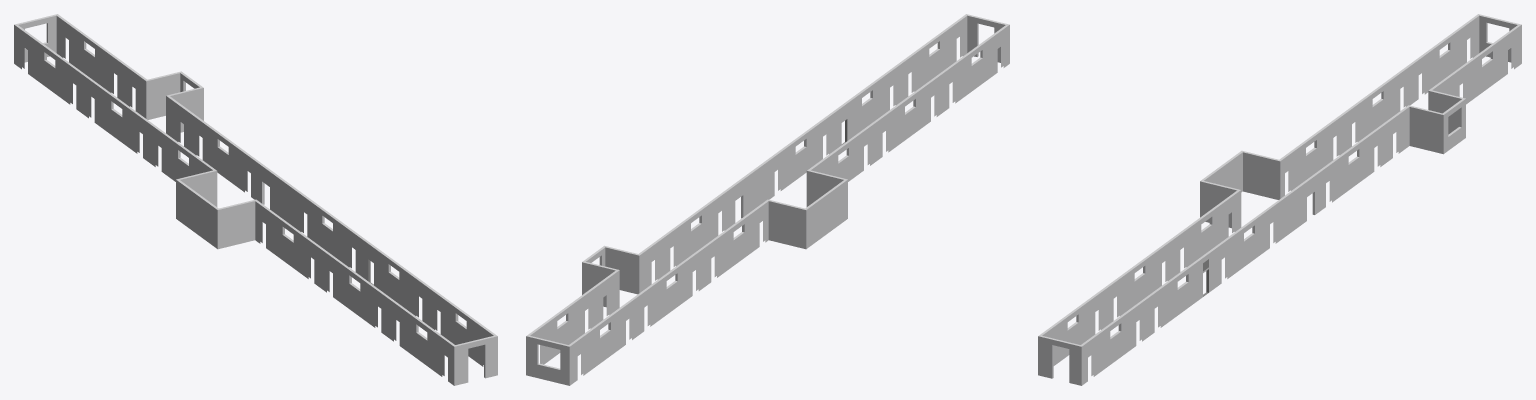
Rendered from LouDao-51.FBX.
The picture shows the model from 3 angles, left to right: view 1: azimuth 30°, elevation 25°; view 2: azimuth 150°, elevation 25°; view 3: azimuth 330°, elevation 25°; orthographic projection.
Parts seen in each view (by area): view 1: LouDao-51; view 2: LouDao-51; view 3: LouDao-51.
Boxes of the visible parts, bbox=[...] form: LouDao-51: bbox=[14, 14, 497, 385]; LouDao-51: bbox=[526, 14, 1009, 385]; LouDao-51: bbox=[1038, 14, 1521, 385].
Bounding box in the file's own units: 10.14 × 3.3 × 67.21.
2 materials, 1 textured.
